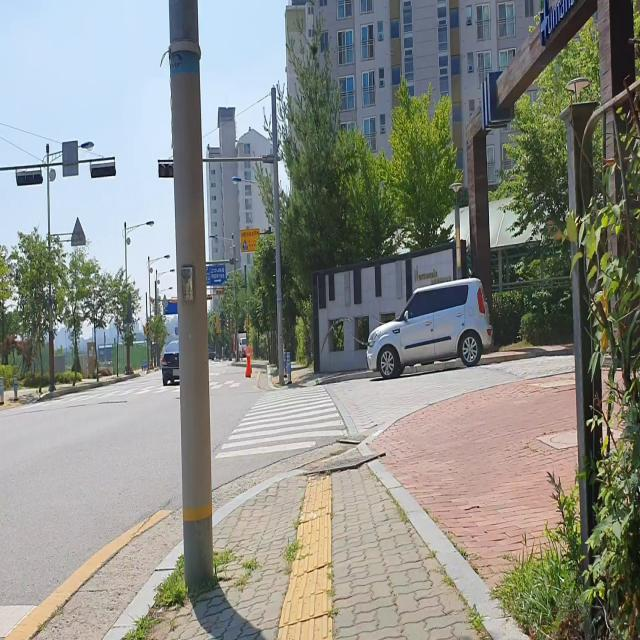횡단보도: (214, 382, 350, 462), (45, 382, 180, 401)
